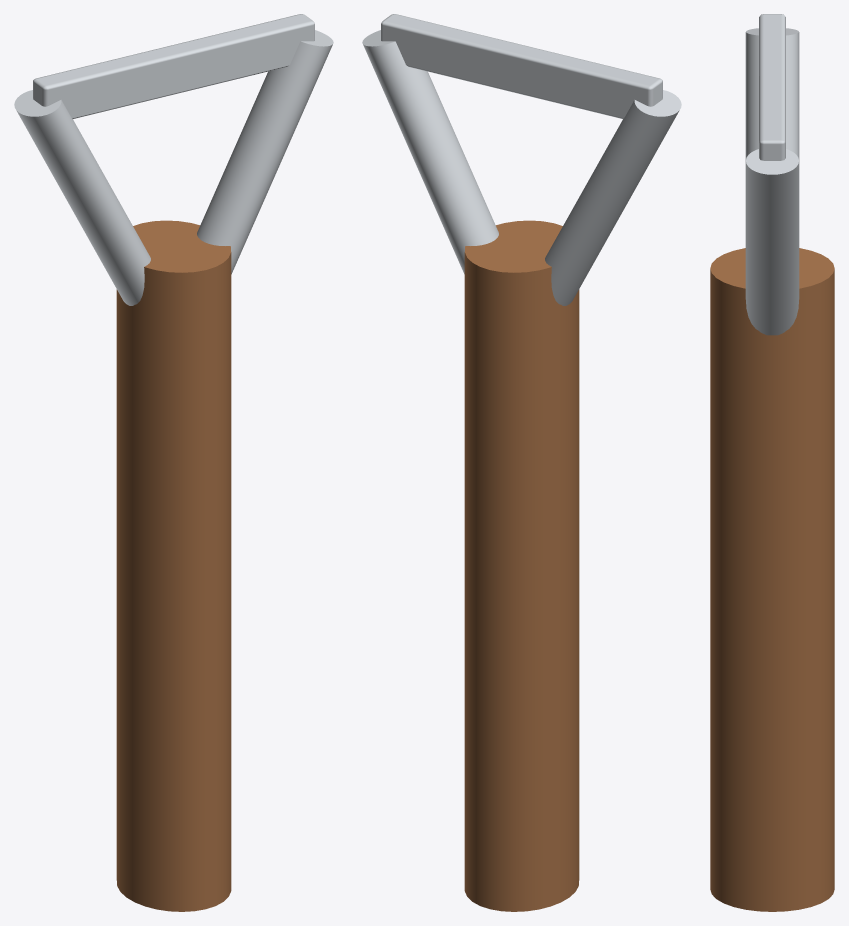
The model's file is wp-eplucheur.glb.
The picture shows the model from 3 angles, left to right: view 1: azimuth 30°, elevation 25°; view 2: azimuth 150°, elevation 25°; view 3: azimuth 270°, elevation 25°; orthographic projection. The views are drawn at different scales.
Visible parts, largest first — view 1: wp-eplucheur; view 2: wp-eplucheur; view 3: wp-eplucheur.
Part boxes in pixels (box(x1,y1,x2,y2)): wp-eplucheur: box(14, 14, 333, 911); wp-eplucheur: box(362, 14, 681, 911); wp-eplucheur: box(710, 14, 834, 911).
Bounding box in the file's own units: 0.07 × 0.18 × 0.025.
